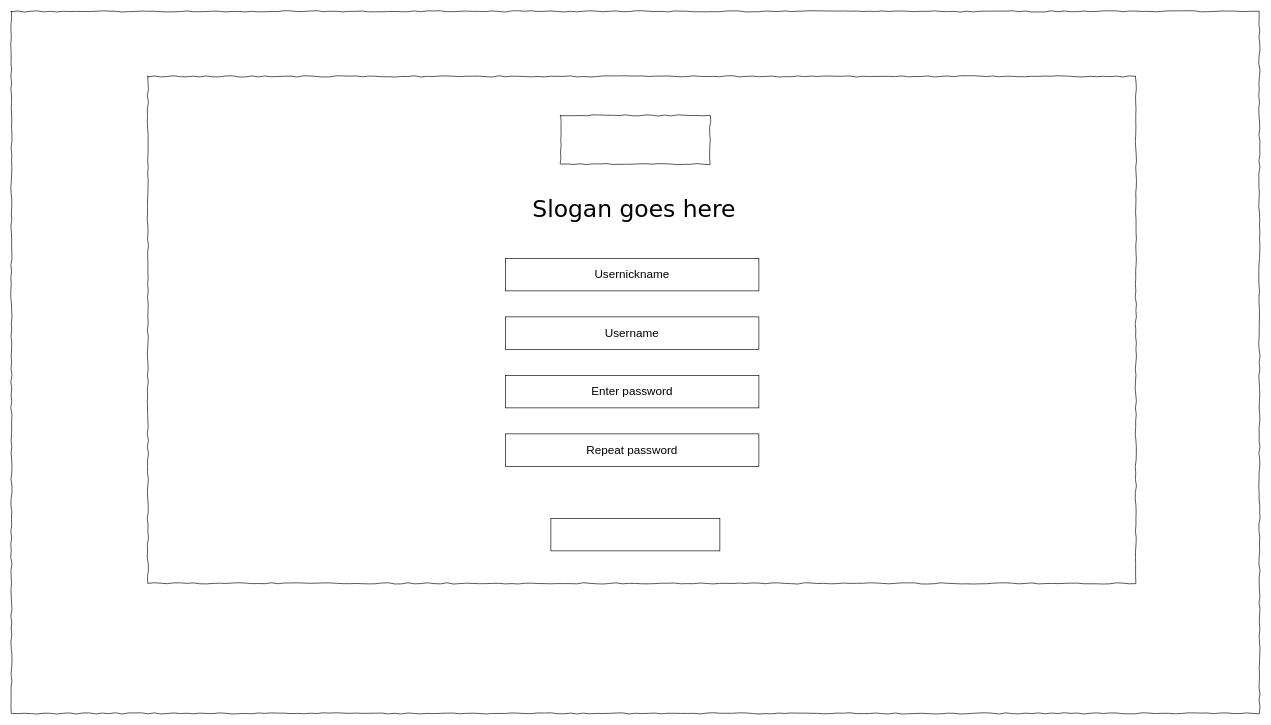
Image size: 1271x725. Some labels were removed from this diagram. The shapes that lost their labels are listed below. From the top down, each one's box as (x1, y1, x2, y2) in pixels, then its label:
(560, 115, 710, 164): LOGO
(550, 518, 720, 551): Create account
